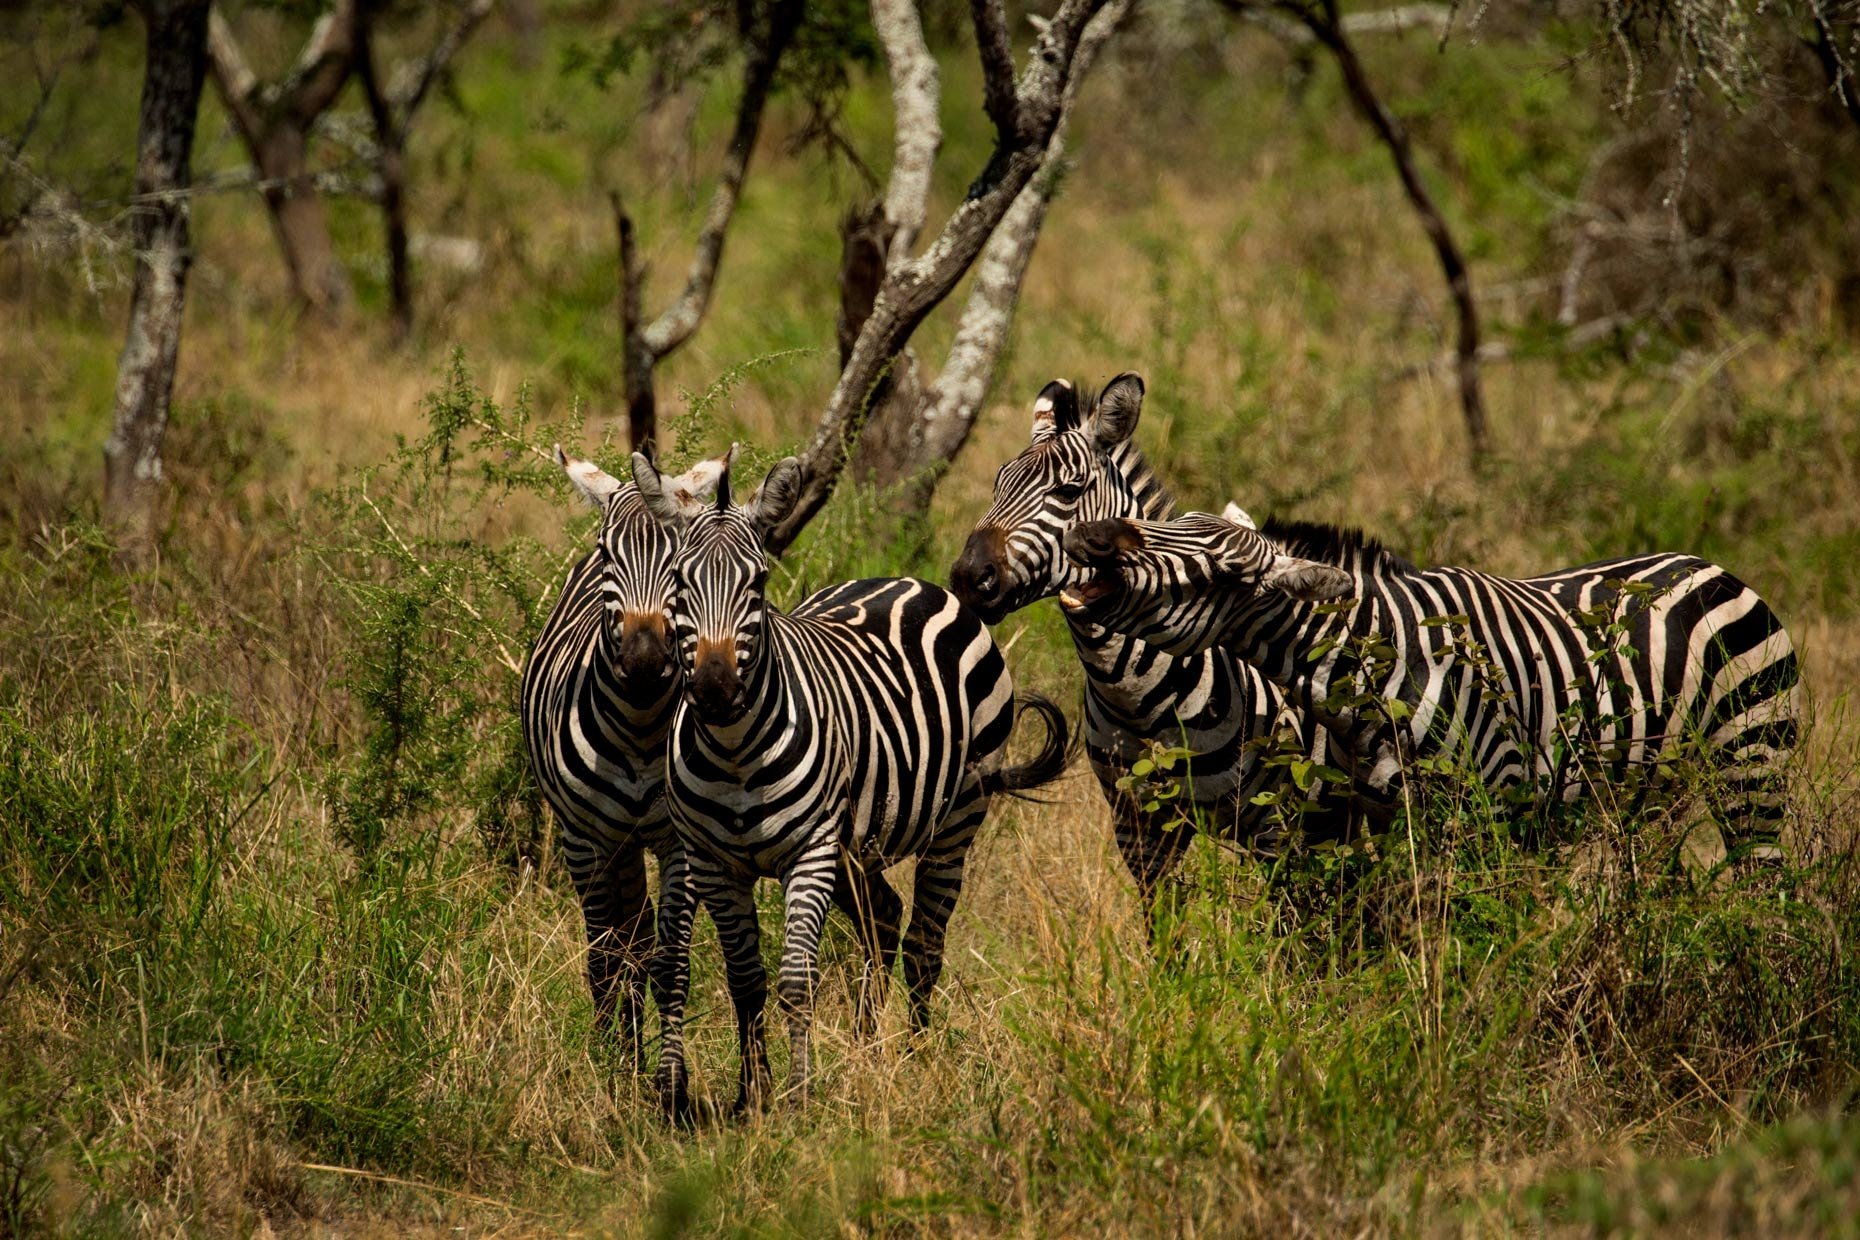zebra: (948, 365, 1538, 1010), (1057, 500, 1828, 983), (655, 444, 1042, 1127), (504, 421, 728, 1151)
